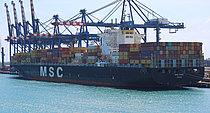Ship: (10, 44, 207, 91)
